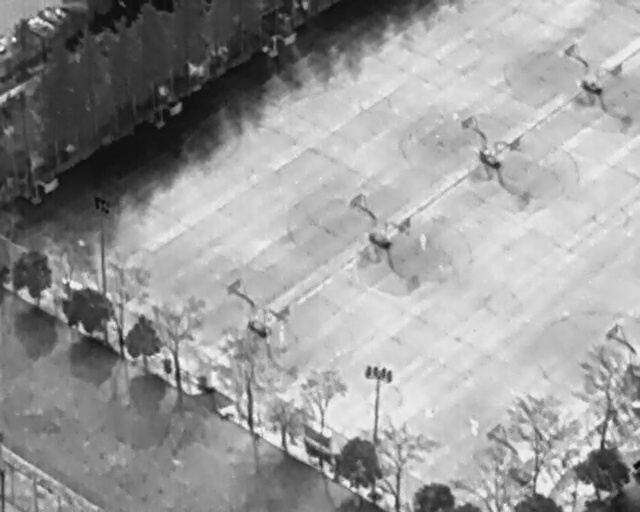Person: (470, 415, 480, 438), (418, 232, 427, 252), (278, 323, 286, 343)
